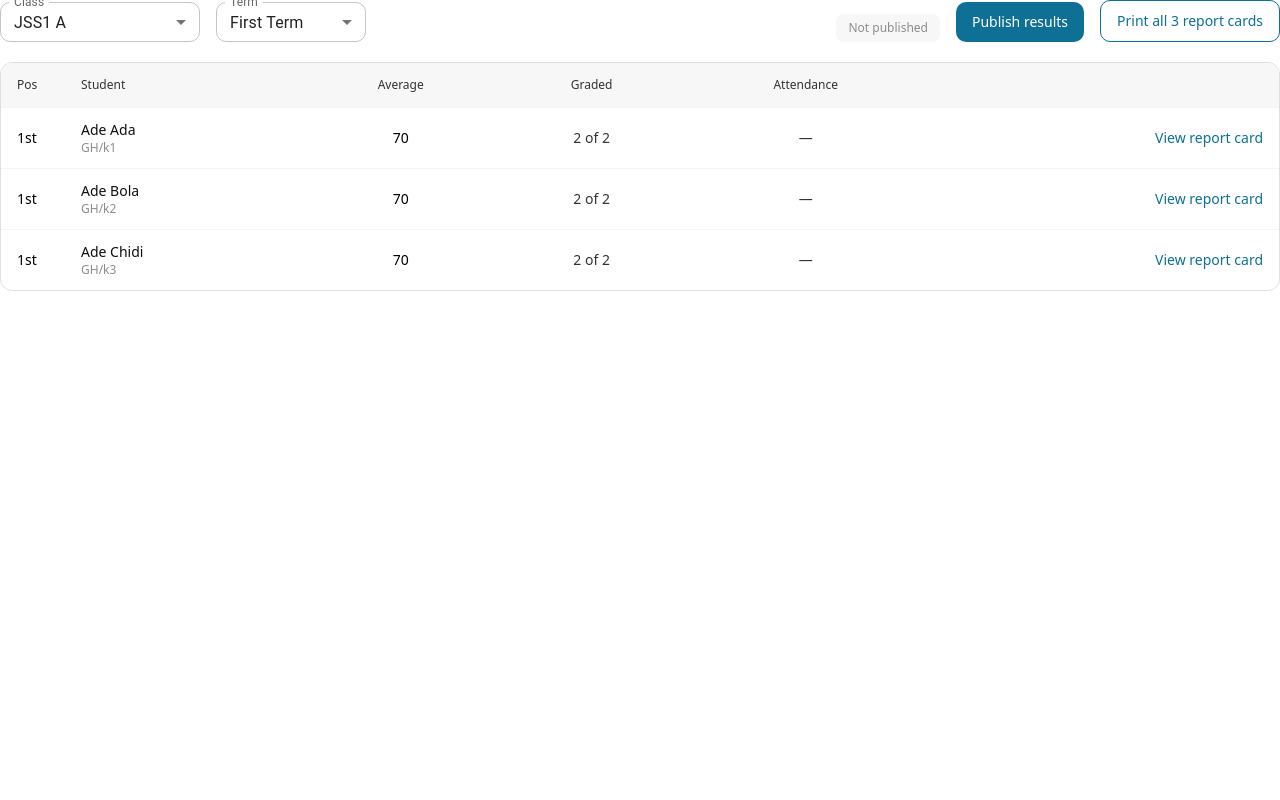
publishing incomplete results › not publishing is the easy path: focused, and 'Publish anyway' needs the box ticked
What coordinates should you click on to do the following:
click the button "Publish results"
I would click on:
 (1020, 22)
Its box is [956,2,1084,42].
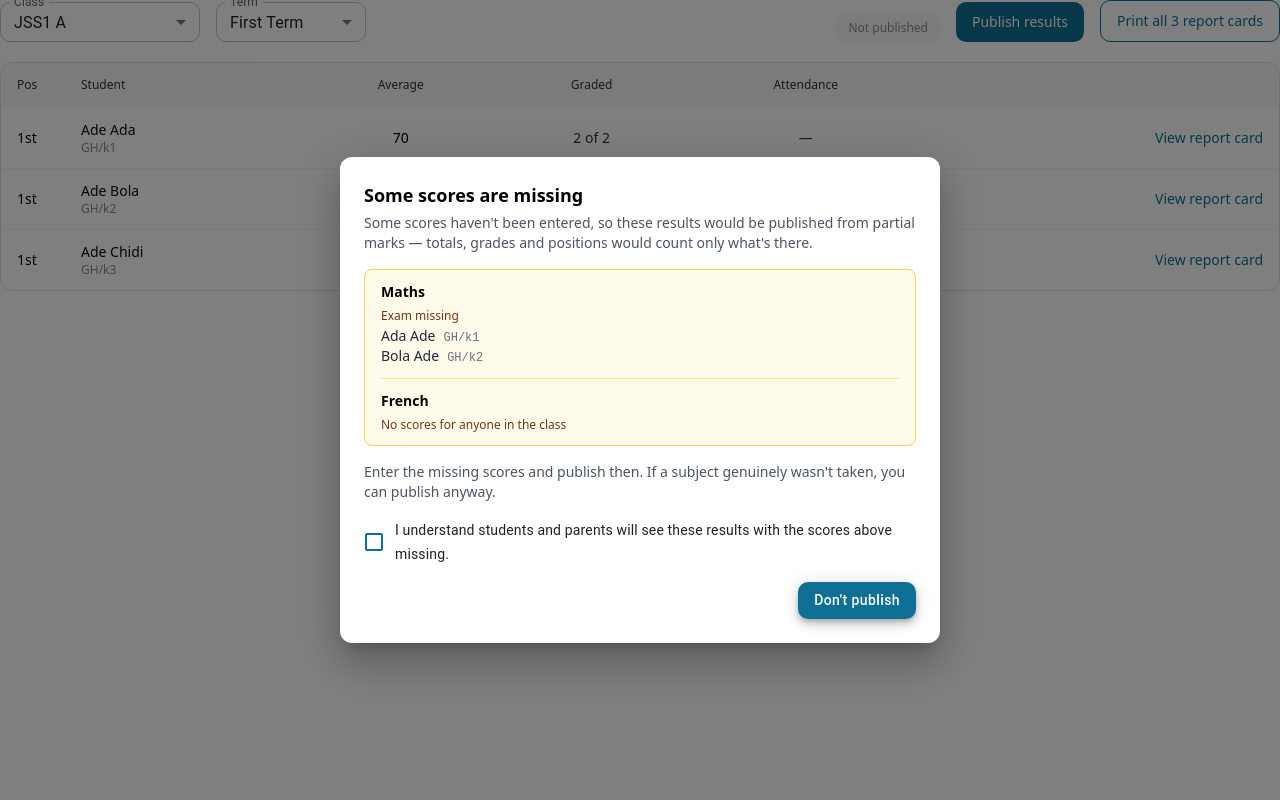
What coordinates should you click on to do the following:
click the button "Don't publish"
I would click on:
 (857, 601)
Its box is [798,582,916,619].
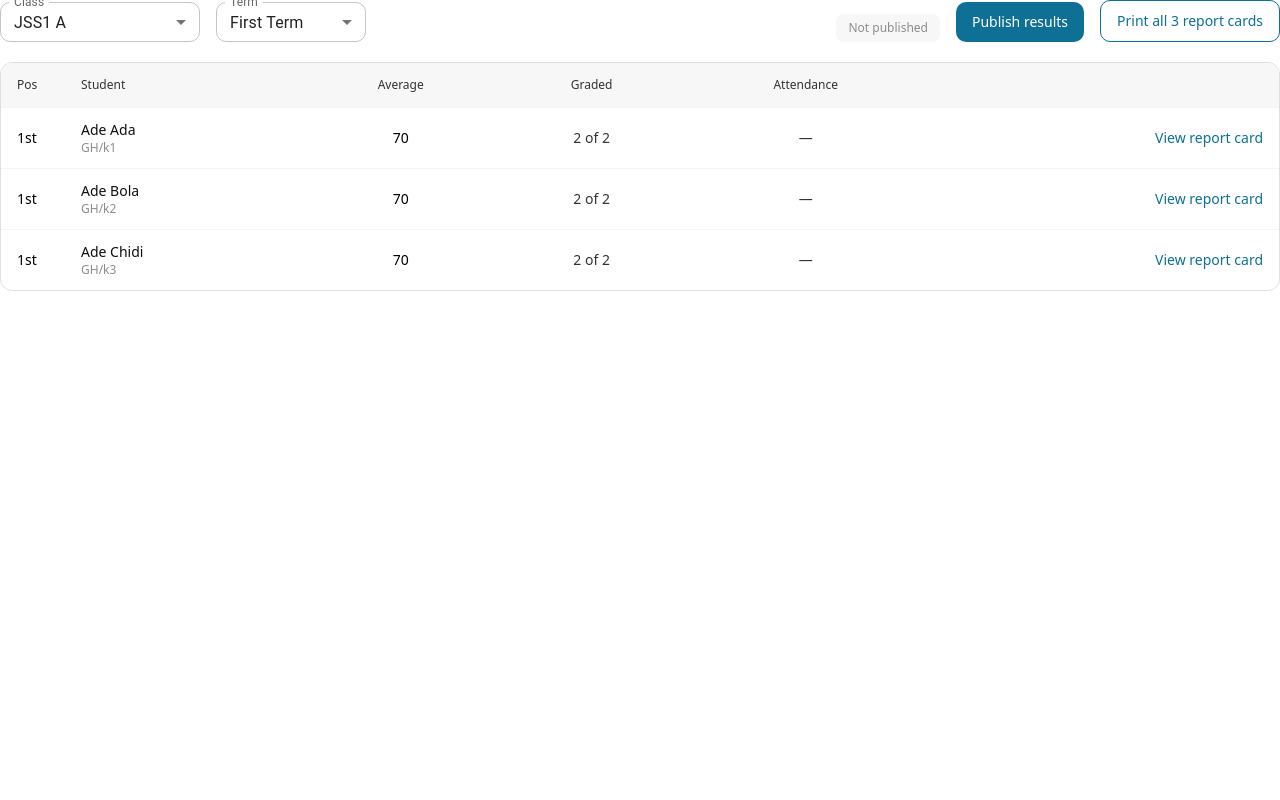
Check: the dialog is gone
